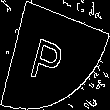P_N: (35, 25, 75, 85)
